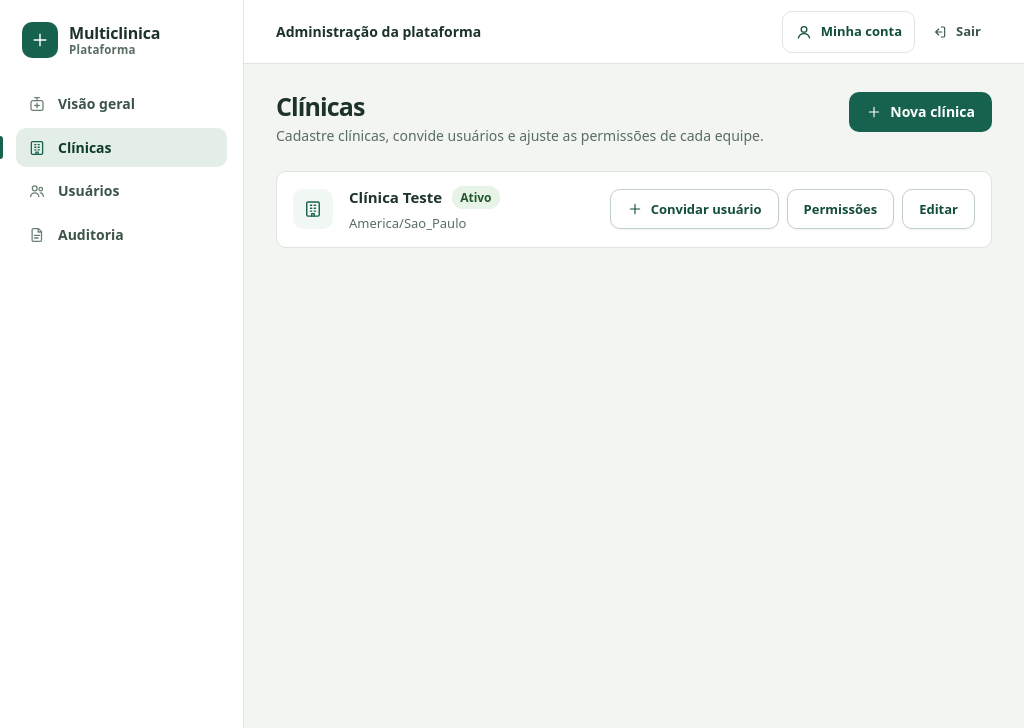
Test: pede confirmação antes de descartar alterações de um formulário
The width and height of the screenshot is (1024, 728).
Step 1. Click the button "Editar" → point(939, 209), box [902,189,975,229]
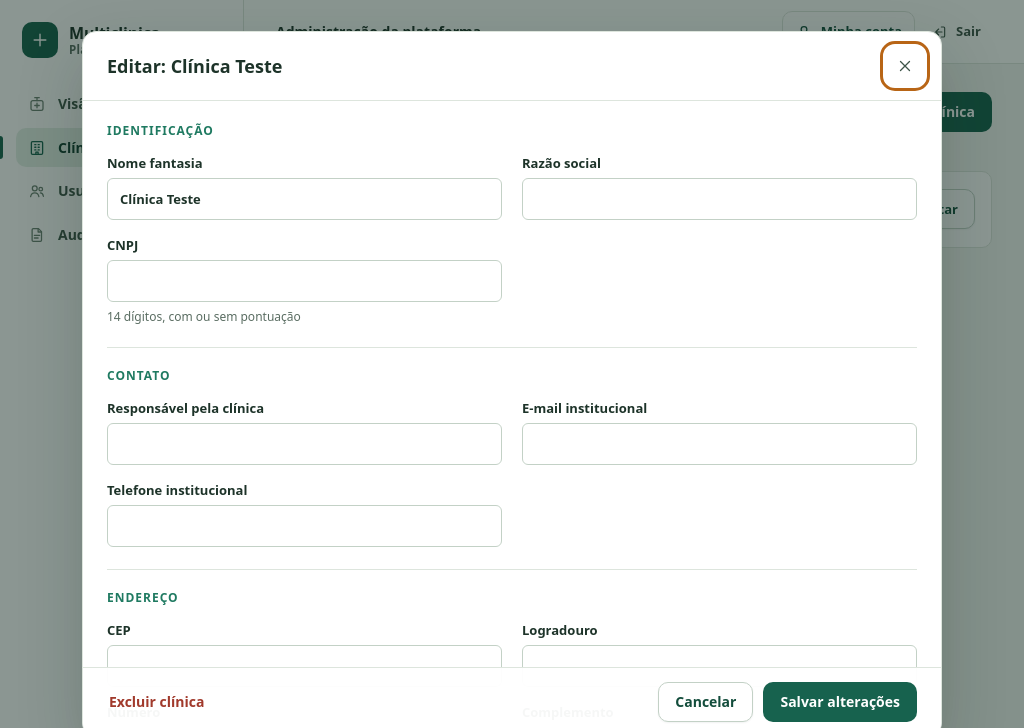
Step 2. Replace the text in the field labelled "Nome fantasia" with "Outro nome" → point(304, 199), box [107,178,502,220]
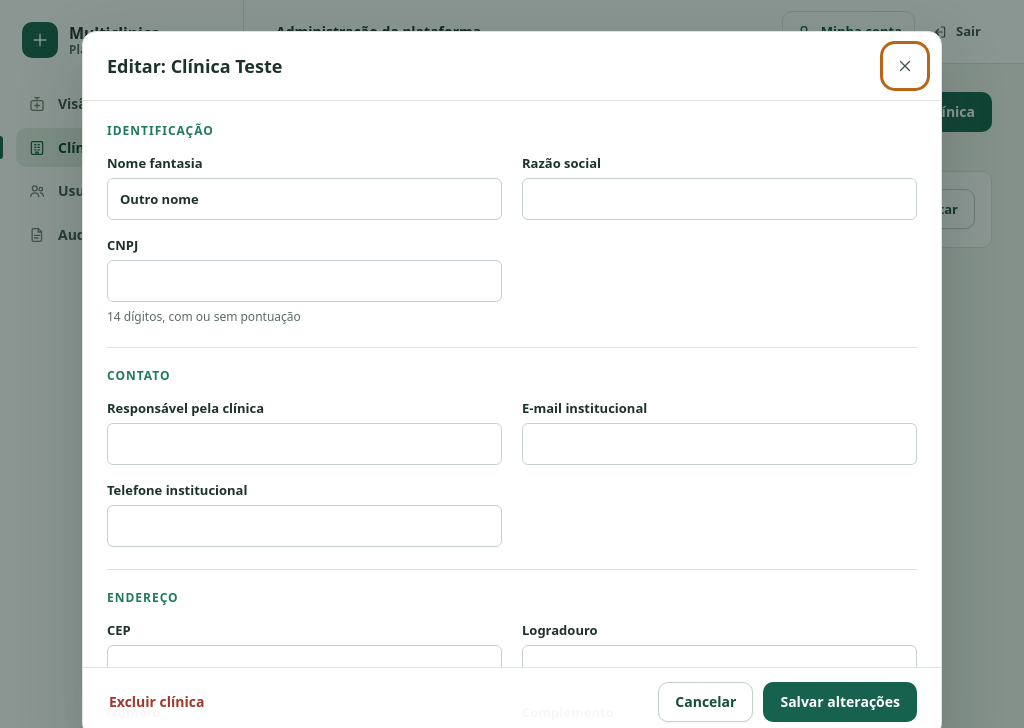
Step 3. Click the button "Cancelar" → point(706, 702), box [658,682,753,722]
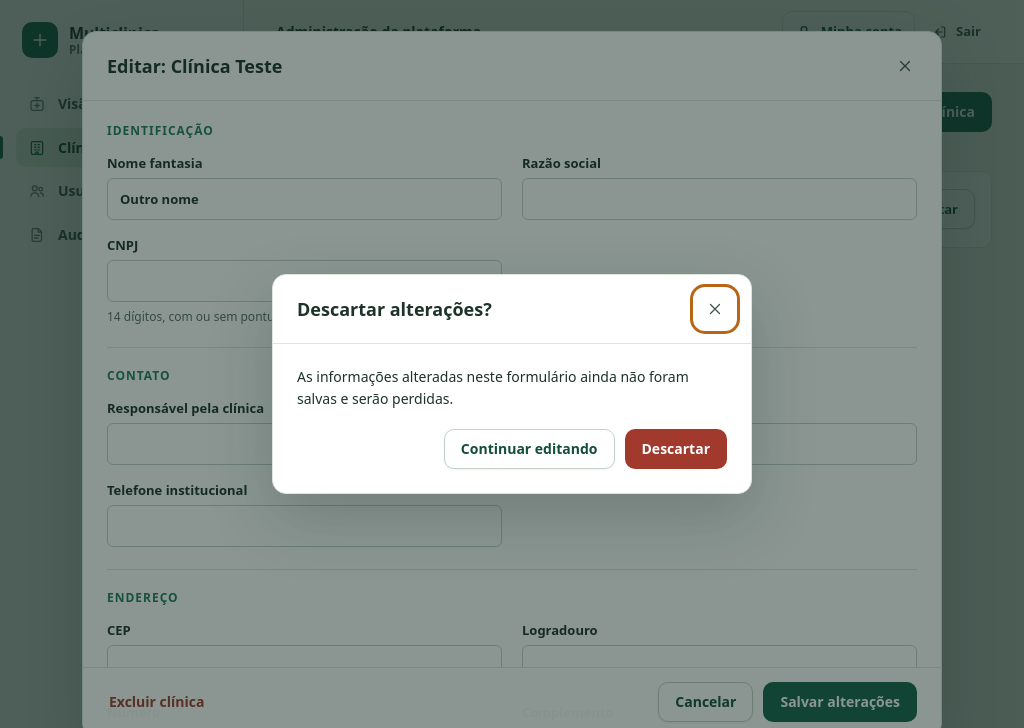
Expected: the heading "Descartar alterações?" is shown, [297,297,492,321]
Step 4. Click the button "Continuar editando" → point(529, 449), box [444,429,614,469]
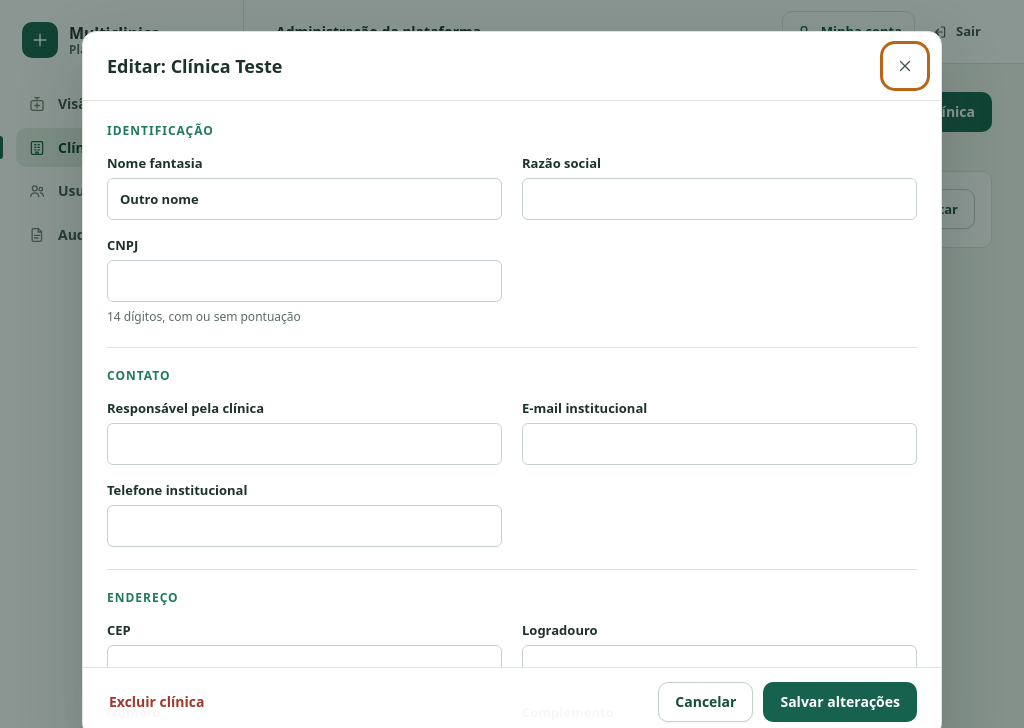
Step 5. Click the button "Cancelar" → point(706, 702), box [658,682,753,722]
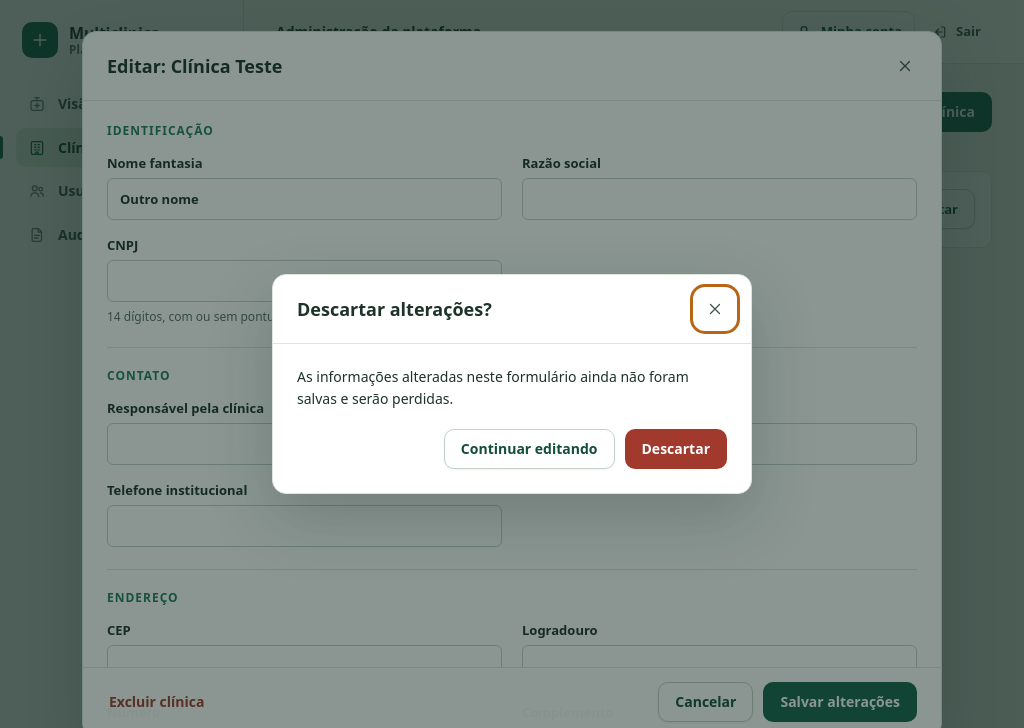
Step 6. Click the button "Descartar" → point(676, 449), box [624,429,727,469]
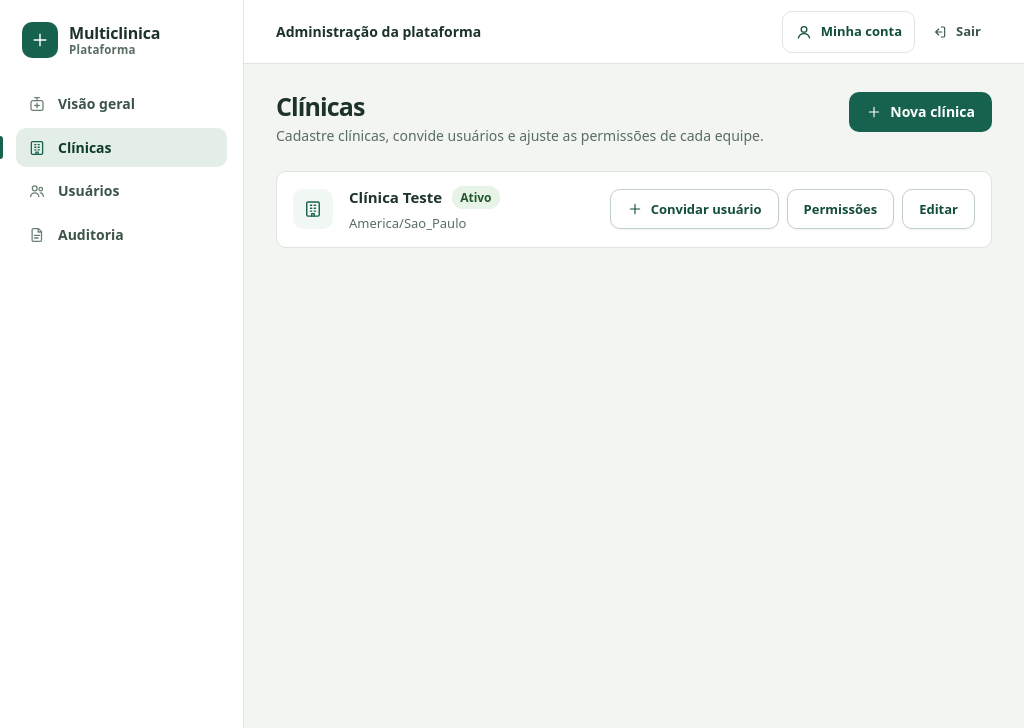
Expected: the text labelled "Nome fantasia" is gone
